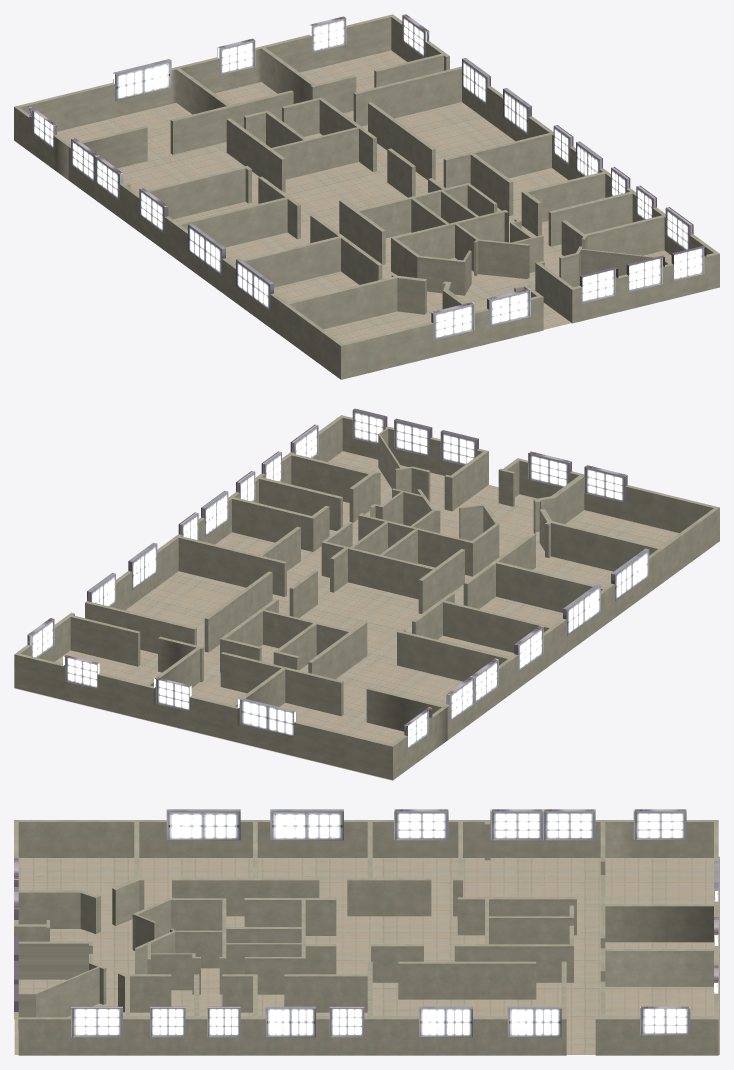
The model's file is Paredes-piso02.FBX.
The picture shows the model from 3 angles, top to bottom: view 1: azimuth 30°, elevation 25°; view 2: azimuth 150°, elevation 25°; view 3: azimuth 270°, elevation 25°; orthographic projection. The views are drawn at different scales.
Visible parts, largest first — view 1: Paredes LEFT, Paredes RIGHT, Piso, Paredes BACK, Paredes INT; view 2: Paredes LEFT, Paredes RIGHT, Paredes BACK, Piso, Paredes INT; view 3: Piso, Paredes RIGHT, Paredes LEFT, Paredes INT, Paredes BACK.
Boxes of the visible parts, bbox=[...] form: Paredes LEFT: bbox=[68, 137, 543, 379]; Paredes RIGHT: bbox=[353, 57, 719, 323]; Piso: bbox=[57, 50, 671, 343]; Paredes BACK: bbox=[14, 14, 449, 179]; Paredes INT: bbox=[226, 97, 543, 295]; Paredes LEFT: bbox=[397, 451, 719, 739]; Paredes RIGHT: bbox=[85, 408, 488, 653]; Paredes BACK: bbox=[14, 612, 447, 780]; Piso: bbox=[14, 451, 679, 780]; Paredes INT: bbox=[220, 488, 499, 679]; Piso: bbox=[14, 856, 719, 1054]; Paredes RIGHT: bbox=[14, 936, 566, 1055]; Paredes LEFT: bbox=[14, 809, 600, 941]; Paredes INT: bbox=[132, 897, 576, 994]; Paredes BACK: bbox=[595, 809, 718, 1055].
Bounding box in the file's own units: 20 × 2.2 × 29.96.
4 materials, 4 textured.
